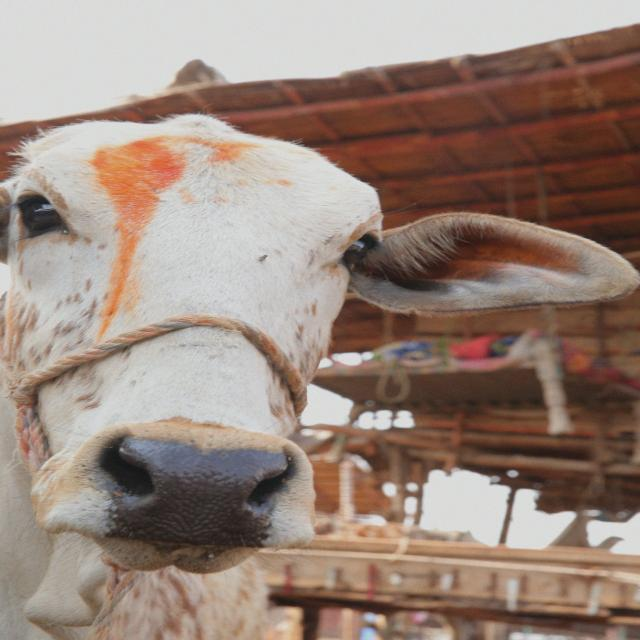muzzles: (68, 422, 307, 553)
